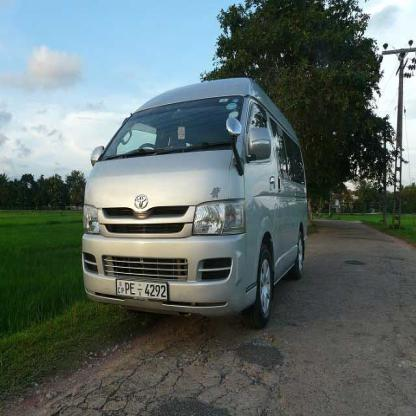number plate: (115, 278, 170, 302)
van front: (82, 74, 307, 332)
